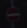No entry: (5, 5, 22, 23)
